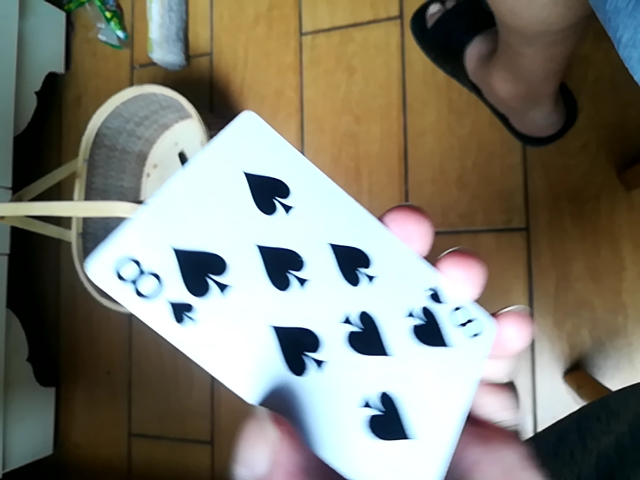ht 8: (88, 104, 521, 479)
